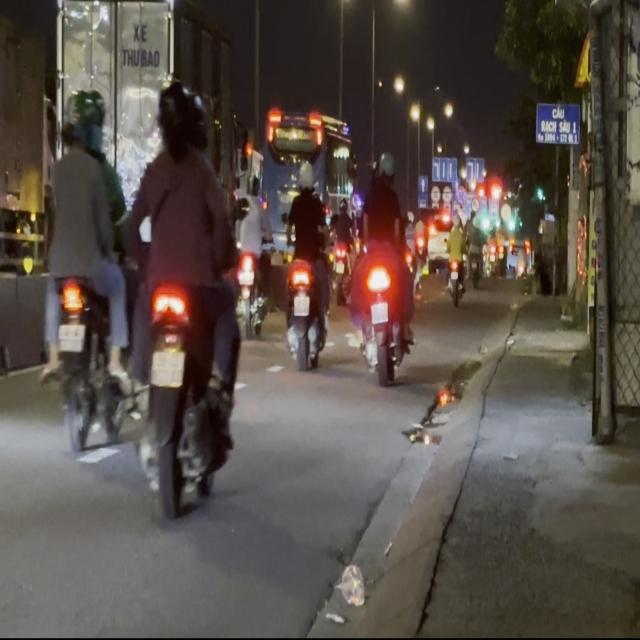helmet: (155, 80, 200, 156), (62, 86, 96, 158), (375, 151, 394, 186)
licenseplate: (126, 75, 242, 516), (40, 81, 132, 443), (354, 148, 417, 386)
nohelmet: (150, 349, 183, 386), (58, 322, 84, 351), (370, 301, 388, 324)
